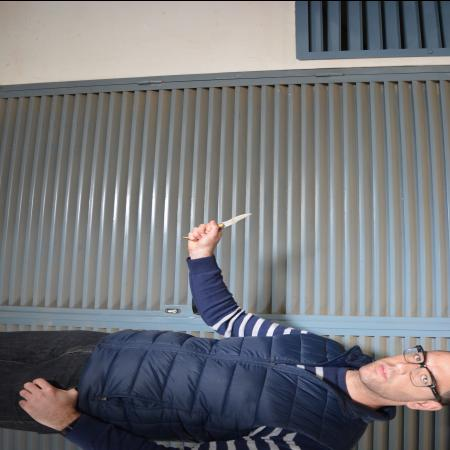long weapon: (182, 211, 257, 239)
